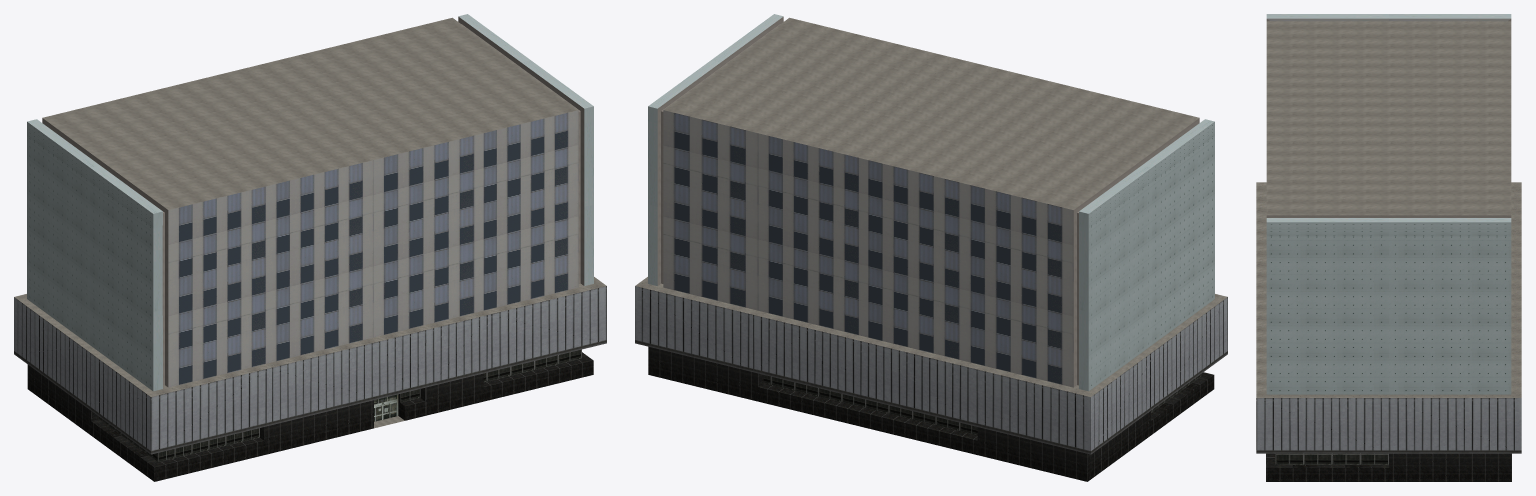
The model's file is vgsecrthse.obj.
The picture shows the model from 3 angles, left to right: view 1: azimuth 30°, elevation 25°; view 2: azimuth 150°, elevation 25°; view 3: azimuth 270°, elevation 25°; orthographic projection. The views are drawn at different scales.
Visible parts, largest first — view 1: vgsEcrthse; view 2: vgsEcrthse; view 3: vgsEcrthse.
Boxes of the visible parts, x1,y1,x2,y2 form: vgsEcrthse: (14,14,606,481); vgsEcrthse: (635,14,1227,481); vgsEcrthse: (1256,14,1521,481).
Size of the model in its own units: 83.06 by 46.68 by 43.24.
8 materials, 8 textured.
